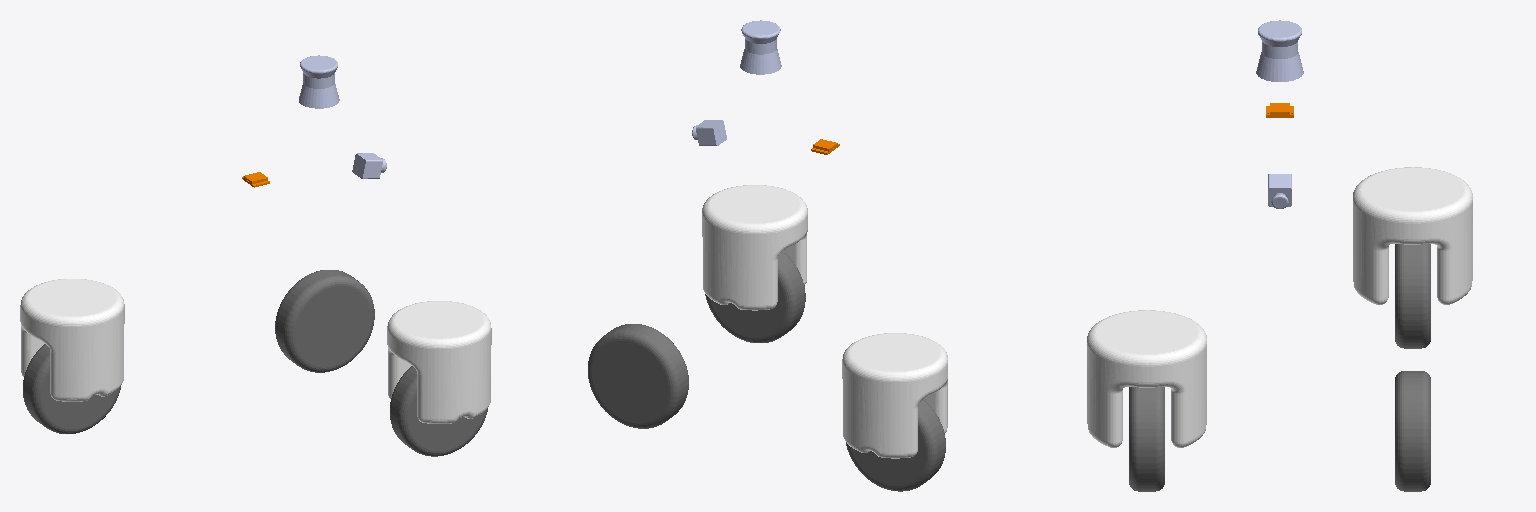
URDF robot description (schoolbus):
<?xml version="1.0" encoding="utf-8"?>
<robot
    name="schoolbus">
    <link
        name="base_link">
        <inertial>
            <origin
                xyz="-0.0030992 -3.8154E-08 0.53654"
                rpy="0 0 0" />
            <mass
                value="486.55" />
            <inertia
                ixx="43.054"
                ixy="8.2787E-06"
                ixz="0.15619"
                iyy="51.599"
                iyz="1.8424E-06"
                izz="57.114" />
        </inertial>
        <visual>
            <origin
                xyz="0 0 0"
                rpy="0 0 0" />
            <geometry>
                <mesh
                    filename="package://schoolbus_urdf/meshes/visual/base_link.STL" />
            </geometry>
            <material
                name="">
                <color
                    rgba="1 1 0 0.5" />
            </material>
        </visual>
        <collision>
            <origin
                xyz="0 0 0"
                rpy="0 0 0" />
            <geometry>
                <mesh
                    filename="package://schoolbus_urdf/meshes/visual/base_link.STL" />
            </geometry>
        </collision>
    </link>
    <link name="base_footprint" />
    <link
        name="fl_steering_link">
        <inertial>
            <origin
                xyz="7.9134E-08 1.3959E-07 -0.092579"
                rpy="0 0 0" />
            <mass
                value="7.3876" />
            <inertia
                ixx="0.072415"
                ixy="-9.3088E-07"
                ixz="2.1936E-08"
                iyy="0.055257"
                iyz="6.4073E-08"
                izz="0.065566" />
        </inertial>
        <visual>
            <origin
                xyz="0 0 0"
                rpy="0 0 0" />
            <geometry>
                <mesh
                    filename="package://schoolbus_urdf/meshes/visual/fl_steering_link.STL" />
            </geometry>
            <material
                name="">
                <color
                    rgba="1 1 1 1" />
            </material>
        </visual>
        <collision>
            <origin
                xyz="0 0 0"
                rpy="0 0 0" />
            <geometry>
                <mesh
                    filename="package://schoolbus_urdf/meshes/visual/fl_steering_link.STL" />
            </geometry>
        </collision>
    </link>
    <joint
        name="fl_steering"
        type="revolute">
        <origin
            xyz="0.3556 0.2794 0.3556"
            rpy="0 0 0" />
        <parent
            link="base_link" />
        <child
            link="fl_steering_link" />
        <axis
            xyz="0 0 -1" />
        <limit
            lower="-1.5708"
            upper="1.5708"
            effort="6"
            velocity="1.5" />
        <dynamics
            damping="0.1"
            friction="1" />
    </joint>
    <link
        name="fl_wheel_link">
        <inertial>
            <origin
                xyz="0 0 0"
                rpy="0 0 0" />
            <mass
                value="3.7289" />
            <inertia
                ixx="0.016291"
                ixy="1.8197E-34"
                ixz="-2.5277E-35"
                iyy="0.016291"
                iyz="-9.404E-35"
                izz="0.029148" />
        </inertial>
        <visual>
            <origin
                xyz="0 0 0"
                rpy="0 0 0" />
            <geometry>
                <mesh
                    filename="package://schoolbus_urdf/meshes/visual/fl_wheel_link.STL" />
            </geometry>
            <material
                name="">
                <color
                    rgba="0.50196 0.50196 0.50196 1" />
            </material>
        </visual>
        <collision>
            <origin
                xyz="0 0 0"
                rpy="0 0 0" />
            <geometry>
                <mesh
                    filename="package://schoolbus_urdf/meshes/visual/fl_wheel_link.STL" />
            </geometry>
        </collision>
    </link>
    <joint
        name="fl_wheel"
        type="continuous">
        <origin
            xyz="0 0 -0.2286"
            rpy="-1.5708 0 0" />
        <parent
            link="fl_steering_link" />
        <child
            link="fl_wheel_link" />
        <axis
            xyz="0 0 1" />
        <limit
            effort="14"
            velocity="35" />
        <dynamics
            damping="0.1"
            friction="1" />
    </joint>
    <link
        name="fr_steering_link">
        <inertial>
            <origin
                xyz="-7.9134E-08 -1.3959E-07 -0.092579"
                rpy="0 0 0" />
            <mass
                value="7.3876" />
            <inertia
                ixx="0.072415"
                ixy="-9.3088E-07"
                ixz="-2.1936E-08"
                iyy="0.055257"
                iyz="-6.4073E-08"
                izz="0.065566" />
        </inertial>
        <visual>
            <origin
                xyz="0 0 0"
                rpy="0 0 0" />
            <geometry>
                <mesh
                    filename="package://schoolbus_urdf/meshes/visual/fr_steering_link.STL" />
            </geometry>
            <material
                name="">
                <color
                    rgba="1 1 1 1" />
            </material>
        </visual>
        <collision>
            <origin
                xyz="0 0 0"
                rpy="0 0 0" />
            <geometry>
                <mesh
                    filename="package://schoolbus_urdf/meshes/visual/fr_steering_link.STL" />
            </geometry>
        </collision>
    </link>
    <joint
        name="fr_steering"
        type="revolute">
        <origin
            xyz="0.3556 -0.2794 0.3556"
            rpy="0 0 0" />
        <parent
            link="base_link" />
        <child
            link="fr_steering_link" />
        <axis
            xyz="0 0 -1" />
        <limit
            lower="-1.5708"
            upper="1.5708"
            effort="6"
            velocity="1.5" />
        <dynamics
            damping="0.1"
            friction="1" />
    </joint>
    <link
        name="fr_wheel_link">
        <inertial>
            <origin
                xyz="0 0 -5.5511E-17"
                rpy="0 0 0" />
            <mass
                value="3.7289" />
            <inertia
                ixx="0.016291"
                ixy="-2.7162E-34"
                ixz="-1.3166E-18"
                iyy="0.016291"
                iyz="-9.404E-35"
                izz="0.029148" />
        </inertial>
        <visual>
            <origin
                xyz="0 0 0"
                rpy="0 0 0" />
            <geometry>
                <mesh
                    filename="package://schoolbus_urdf/meshes/visual/fr_wheel_link.STL" />
            </geometry>
            <material
                name="">
                <color
                    rgba="0.50196 0.50196 0.50196 1" />
            </material>
        </visual>
        <collision>
            <origin
                xyz="0 0 0"
                rpy="0 0 0" />
            <geometry>
                <mesh
                    filename="package://schoolbus_urdf/meshes/visual/fr_wheel_link.STL" />
            </geometry>
        </collision>
    </link>
    <joint
        name="fr_wheel"
        type="continuous">
        <origin
            xyz="0 0 -0.2286"
            rpy="-1.5708 0 0" />
        <parent
            link="fr_steering_link" />
        <child
            link="fr_wheel_link" />
        <axis
            xyz="0 0 1" />
        <limit
            effort="14"
            velocity="35" />
        <dynamics
            damping="0.1"
            friction="1" />
    </joint>
    <link
        name="bl_steering_link">
        <inertial>
            <origin
                xyz="-7.9134E-08 -1.3959E-07 -0.092579"
                rpy="0 0 0" />
            <mass
                value="7.3876" />
            <inertia
                ixx="0.072415"
                ixy="-9.3088E-07"
                ixz="-2.1936E-08"
                iyy="0.055257"
                iyz="-6.4073E-08"
                izz="0.065566" />
        </inertial>
        <visual>
            <origin
                xyz="0 0 0"
                rpy="0 0 0" />
            <geometry>
                <mesh
                    filename="package://schoolbus_urdf/meshes/visual/bl_steering_link.STL" />
            </geometry>
            <material
                name="">
                <color
                    rgba="1 1 1 1" />
            </material>
        </visual>
        <collision>
            <origin
                xyz="0 0 0"
                rpy="0 0 0" />
            <geometry>
                <mesh
                    filename="package://schoolbus_urdf/meshes/visual/bl_steering_link.STL" />
            </geometry>
        </collision>
    </link>
    <joint
        name="bl_steering"
        type="revolute">
        <origin
            xyz="-0.3556 0.2794 0.3556"
            rpy="0 0 0" />
        <parent
            link="base_link" />
        <child
            link="bl_steering_link" />
        <axis
            xyz="0 0 -1" />
        <limit
            lower="-1.5708"
            upper="1.5708"
            effort="6"
            velocity="1.5" />
        <dynamics
            damping="0.1"
            friction="1" />
    </joint>
    <link
        name="bl_wheel_link">
        <inertial>
            <origin
                xyz="0 0 0"
                rpy="0 0 0" />
            <mass
                value="3.7289" />
            <inertia
                ixx="0.016291"
                ixy="7.1943E-35"
                ixz="8.2897E-35"
                iyy="0.016291"
                iyz="-1.6705E-49"
                izz="0.029148" />
        </inertial>
        <visual>
            <origin
                xyz="0 0 0"
                rpy="0 0 0" />
            <geometry>
                <mesh
                    filename="package://schoolbus_urdf/meshes/visual/bl_wheel_link.STL" />
            </geometry>
            <material
                name="">
                <color
                    rgba="0.50196 0.50196 0.50196 1" />
            </material>
        </visual>
        <collision>
            <origin
                xyz="0 0 0"
                rpy="0 0 0" />
            <geometry>
                <mesh
                    filename="package://schoolbus_urdf/meshes/visual/bl_wheel_link.STL" />
            </geometry>
        </collision>
    </link>
    <joint
        name="bl_wheel"
        type="continuous">
        <origin
            xyz="0 0 -0.2286"
            rpy="-1.5708 0 0" />
        <parent
            link="bl_steering_link" />
        <child
            link="bl_wheel_link" />
        <axis
            xyz="0 0 1" />
        <limit
            effort="14"
            velocity="35" />
        <dynamics
            damping="0.1"
            friction="1" />
    </joint>
    <link
        name="br_steering_link">
        <inertial>
            <origin
                xyz="-7.9134E-08 -1.3959E-07 -0.092579"
                rpy="0 0 0" />
            <mass
                value="7.3876" />
            <inertia
                ixx="0.072415"
                ixy="-9.3088E-07"
                ixz="-2.1936E-08"
                iyy="0.055257"
                iyz="-6.4073E-08"
                izz="0.065566" />
        </inertial>
        <visual>
            <origin
                xyz="0 0 0"
                rpy="0 0 0" />
            <geometry>
                <mesh
                    filename="package://schoolbus_urdf/meshes/visual/br_steering_link.STL" />
            </geometry>
            <material
                name="">
                <color
                    rgba="1 1 1 1" />
            </material>
        </visual>
        <collision>
            <origin
                xyz="0 0 0"
                rpy="0 0 0" />
            <geometry>
                <mesh
                    filename="package://schoolbus_urdf/meshes/visual/br_steering_link.STL" />
            </geometry>
        </collision>
    </link>
    <joint
        name="br_steering"
        type="revolute">
        <origin
            xyz="-0.3556 -0.2794 0.3556"
            rpy="0 0 0" />
        <parent
            link="base_link" />
        <child
            link="br_steering_link" />
        <axis
            xyz="0 0 -1" />
        <limit
            lower="-1.5708"
            upper="1.5708"
            effort="6"
            velocity="1.5" />
        <dynamics
            damping="0.1"
            friction="1" />
    </joint>
    <link
        name="br_wheel_link">
        <inertial>
            <origin
                xyz="0 0 0"
                rpy="0 0 0" />
            <mass
                value="3.7289" />
            <inertia
                ixx="0.016291"
                ixy="7.1943E-35"
                ixz="-1.4636E-34"
                iyy="0.016291"
                iyz="-1.8808E-34"
                izz="0.029148" />
        </inertial>
        <visual>
            <origin
                xyz="0 0 0"
                rpy="0 0 0" />
            <geometry>
                <mesh
                    filename="package://schoolbus_urdf/meshes/visual/br_wheel_link.STL" />
            </geometry>
            <material
                name="">
                <color
                    rgba="0.50196 0.50196 0.50196 1" />
            </material>
        </visual>
        <collision>
            <origin
                xyz="0 0 0"
                rpy="0 0 0" />
            <geometry>
                <mesh
                    filename="package://schoolbus_urdf/meshes/visual/br_wheel_link.STL" />
            </geometry>
        </collision>
    </link>
    <joint
        name="br_wheel"
        type="continuous">
        <origin
            xyz="0 0 -0.2286"
            rpy="-1.5708 0 0" />
        <parent
            link="br_steering_link" />
        <child
            link="br_wheel_link" />
        <axis
            xyz="0 0 1" />
        <limit
            effort="14"
            velocity="35" />
        <dynamics
            damping="0.1"
            friction="1" />
    </joint>
    <link
        name="3d_lidar_link">
        <inertial>
            <origin
                xyz="0 4.9324E-35 -0.014026"
                rpy="0 0 0" />
            <mass
                value="0.57482" />
            <inertia
                ixx="0.00081031"
                ixy="-9.7453E-37"
                ixz="7.0089E-21"
                iyy="0.00081031"
                iyz="-1.1915E-36"
                izz="0.00054093" />
        </inertial>
        <visual>
            <origin
                xyz="0 0 0"
                rpy="0 0 0" />
            <geometry>
                <mesh
                    filename="package://schoolbus_urdf/meshes/visual/3d_lidar_link.STL" />
            </geometry>
            <material
                name="">
                <color
                    rgba="0.79216 0.81961 0.93333 1" />
            </material>
        </visual>
        <collision>
            <origin
                xyz="0 0 0"
                rpy="0 0 0" />
            <geometry>
                <mesh
                    filename="package://schoolbus_urdf/meshes/visual/3d_lidar_link.STL" />
            </geometry>
        </collision>
    </link>
    <joint
        name="3d_lidar"
        type="fixed">
        <origin
            xyz="0.1778 0 0.9383"
            rpy="0 0 0" />
        <parent
            link="base_link" />
        <child
            link="3d_lidar_link" />
        <axis
            xyz="0 0 0" />
    </joint>
    <link
        name="imu_link">
        <inertial>
            <origin
                xyz="0.00010294 8.2638E-19 0.0054089"
                rpy="0 0 0" />
            <mass
                value="0.026399" />
            <inertia
                ixx="6.0877E-06"
                ixy="3.4798E-23"
                ixz="-1.6064E-09"
                iyy="4.9463E-06"
                iyz="2.9939E-22"
                izz="1.0395E-05" />
        </inertial>
        <visual>
            <origin
                xyz="0 0 0"
                rpy="0 0 0" />
            <geometry>
                <mesh
                    filename="package://schoolbus_urdf/meshes/visual/imu_link.STL" />
            </geometry>
            <material
                name="">
                <color
                    rgba="1 0.54902 0 1" />
            </material>
        </visual>
        <collision>
            <origin
                xyz="0 0 0"
                rpy="0 0 0" />
            <geometry>
                <mesh
                    filename="package://schoolbus_urdf/meshes/visual/imu_link.STL" />
            </geometry>
        </collision>
    </link>
    <joint
        name="imu"
        type="fixed">
        <origin
            xyz="0 0 0.6992"
            rpy="0 0 0" />
        <parent
            link="base_link" />
        <child
            link="imu_link" />
        <axis
            xyz="0 0 0" />
    </joint>
    <link
        name="route_cam_link">
        <inertial>
            <origin
                xyz="2.9796E-19 0 -0.020832"
                rpy="0 0 0" />
            <mass
                value="0.14055" />
            <inertia
                ixx="7.1822E-05"
                ixy="1.7563E-22"
                ixz="4.4342E-22"
                iyy="7.1822E-05"
                iyz="-1.7788E-20"
                izz="5.3474E-05" />
        </inertial>
        <visual>
            <origin
                xyz="0 0 0"
                rpy="0 0 0" />
            <geometry>
                <mesh
                    filename="package://schoolbus_urdf/meshes/visual/route_cam_link.STL" />
            </geometry>
            <material
                name="">
                <color
                    rgba="0.79216 0.81961 0.93333 1" />
            </material>
        </visual>
        <collision>
            <origin
                xyz="0 0 0"
                rpy="0 0 0" />
            <geometry>
                <mesh
                    filename="package://schoolbus_urdf/meshes/visual/route_cam_link.STL" />
            </geometry>
        </collision>
    </link>
    <joint
        name="route_cam"
        type="fixed">
        <origin
            xyz="0.33945 0 0.66135"
            rpy="1.7802 0 1.5708" />
        <parent
            link="base_link" />
        <child
            link="route_cam_link" />
        <axis
            xyz="0 0 0" />
    </joint>
    <joint
        name="base_footprint"
        type="fixed">
        <origin
            xyz="0 0 0"
            rpy="0 0 0" />
        <parent
            link="base_footprint" />
        <child
            link="base_link" />
        <axis
            xyz="0 0 0" />
    </joint>
</robot>

--- Render facts (derived) ---
Views: 3 orthographic renders of the robot side by side, from view 1: azimuth 30°, elevation 25°; view 2: azimuth 150°, elevation 25°; view 3: azimuth 270°, elevation 25°.
Model schoolbus with 13 links and 12 joints (4 revolute, 4 continuous, 4 fixed), rooted at base_footprint, posed all joints at 0.
Visible links, largest first — view 1: bl_steering_link, fr_steering_link, fl_wheel_link, fr_wheel_link, bl_wheel_link, 3d_lidar_link, route_cam_link; view 2: bl_steering_link, fr_steering_link, fl_wheel_link, bl_wheel_link, fr_wheel_link, 3d_lidar_link, route_cam_link; view 3: bl_steering_link, fr_steering_link, fl_wheel_link, fr_wheel_link, bl_wheel_link, 3d_lidar_link, route_cam_link.
Boxes of the visible links, box(x1,y1,x2,y2) form: bl_steering_link: box(20, 279, 124, 401); fr_steering_link: box(387, 301, 491, 423); fl_wheel_link: box(275, 270, 374, 372); fr_wheel_link: box(390, 366, 487, 456); bl_wheel_link: box(23, 344, 120, 433); 3d_lidar_link: box(299, 55, 339, 108); route_cam_link: box(352, 153, 386, 178); bl_steering_link: box(842, 333, 947, 458); fr_steering_link: box(702, 185, 807, 310); fl_wheel_link: box(588, 324, 688, 428); bl_wheel_link: box(846, 399, 945, 491); fr_wheel_link: box(705, 251, 805, 342); 3d_lidar_link: box(740, 20, 781, 74); route_cam_link: box(692, 120, 726, 145); bl_steering_link: box(1353, 167, 1472, 304); fr_steering_link: box(1087, 310, 1206, 447); fl_wheel_link: box(1395, 371, 1430, 491); fr_wheel_link: box(1129, 387, 1164, 491); bl_wheel_link: box(1395, 244, 1430, 348); 3d_lidar_link: box(1256, 20, 1303, 81); route_cam_link: box(1268, 174, 1291, 208).
Bounding box of the posed robot: 0.9652 × 0.8128 × 0.9761 m (x, y, z).
8 mesh visuals loaded from 12 distinct referenced files (8 binary STL); not drawn: 4 (reference not matched to a file when rendering).